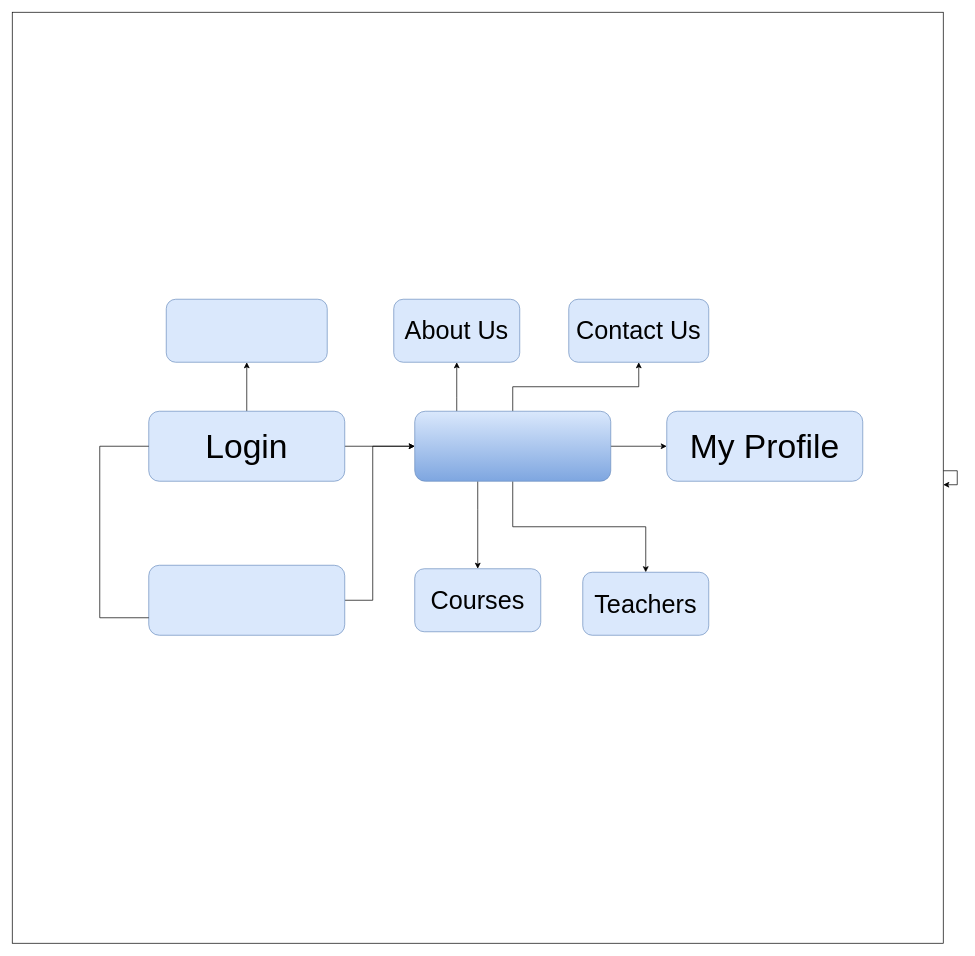
The diagram is 975 pixels wide and 956 high, and some of its shapes have lost their labels. The centre of each missing label's shape, as x and y in pixels:
Forget Password: point 246,330
Home: point 512,446
Register: point 246,600
